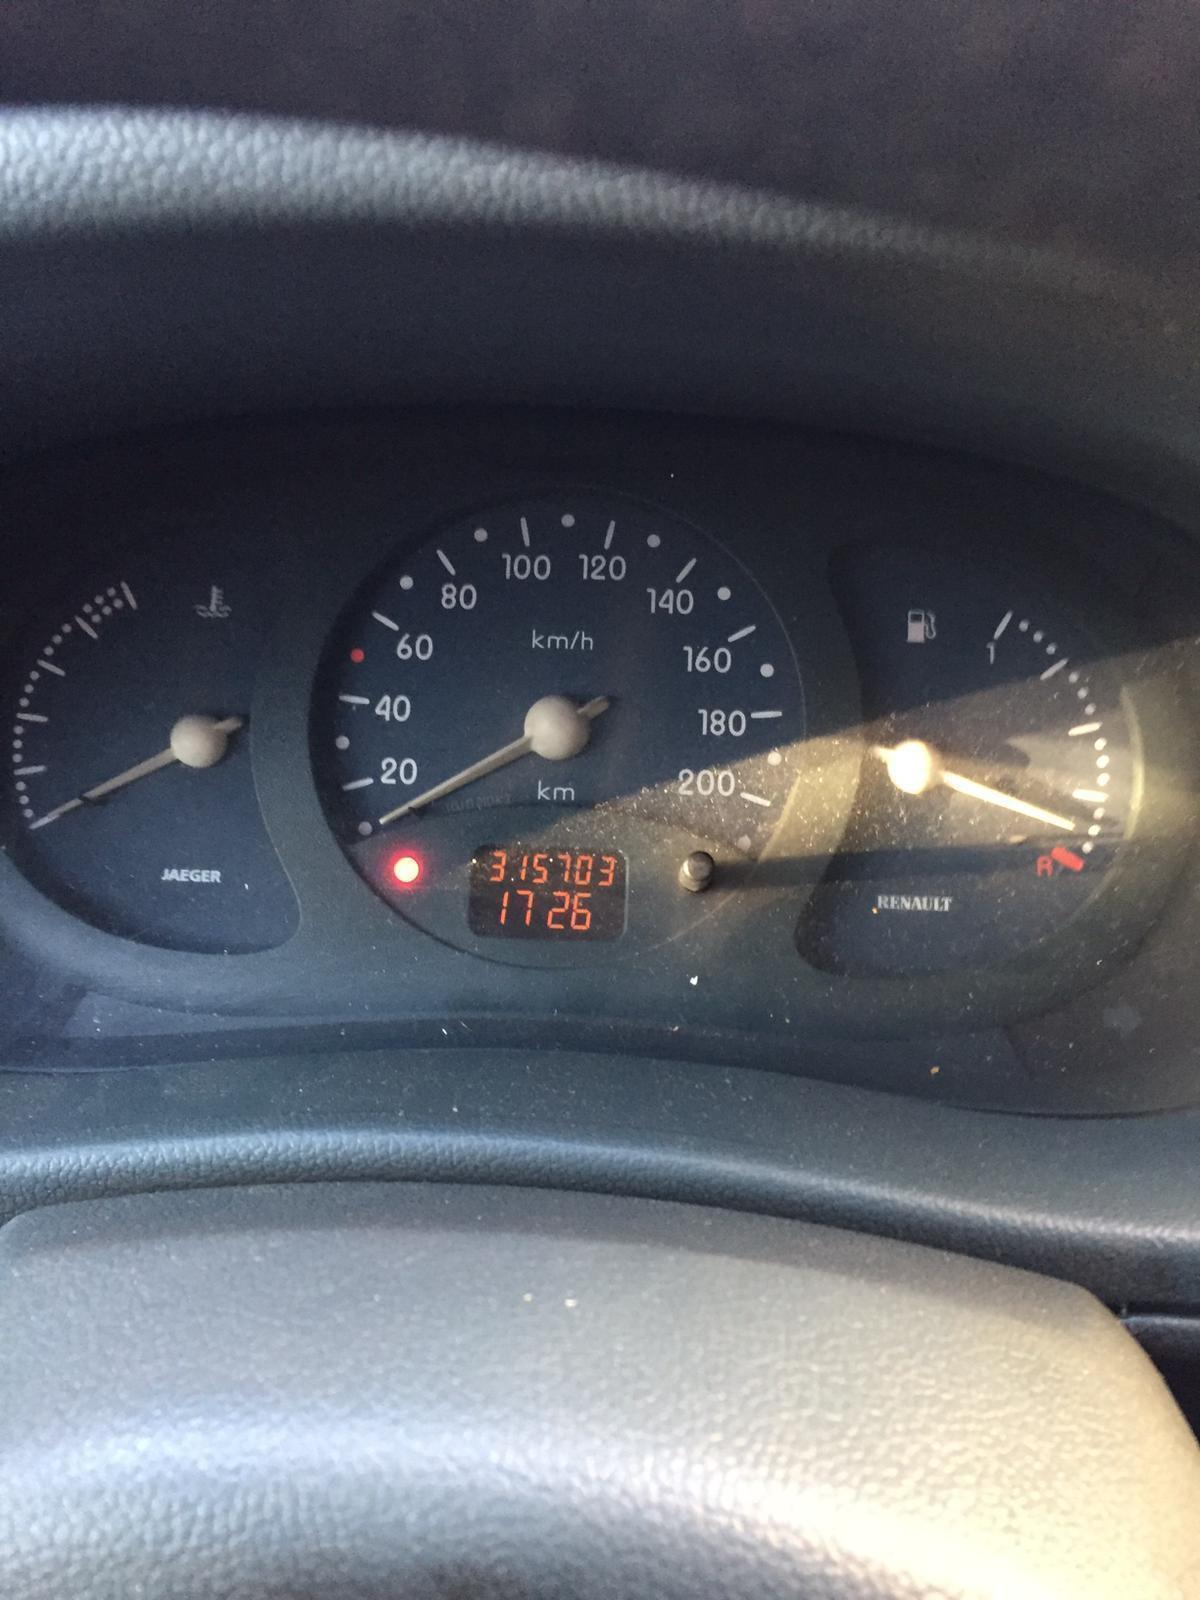0: (574, 854, 592, 884)
1: (499, 889, 509, 926), (521, 854, 528, 879)
2: (546, 889, 570, 929)
3: (488, 850, 505, 883), (597, 855, 615, 886)
5: (531, 853, 548, 884)
6: (570, 892, 592, 930)
7: (516, 889, 534, 927), (555, 854, 571, 881)
odometer: (466, 842, 629, 945)
